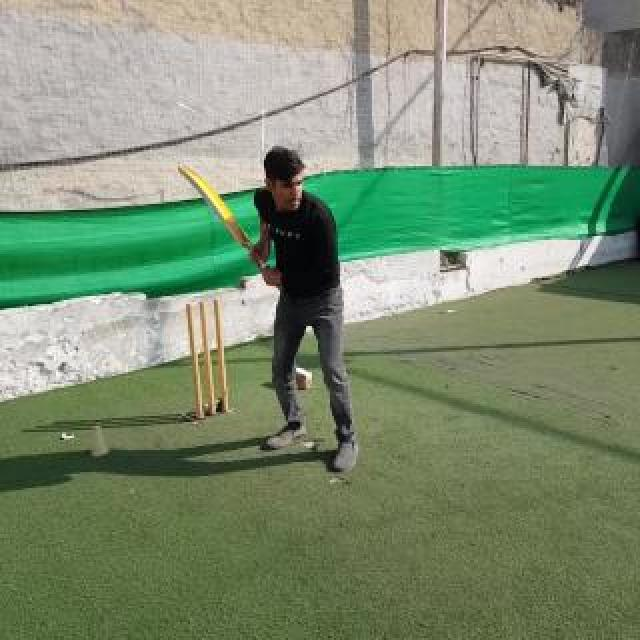bat: (178, 166, 284, 294)
